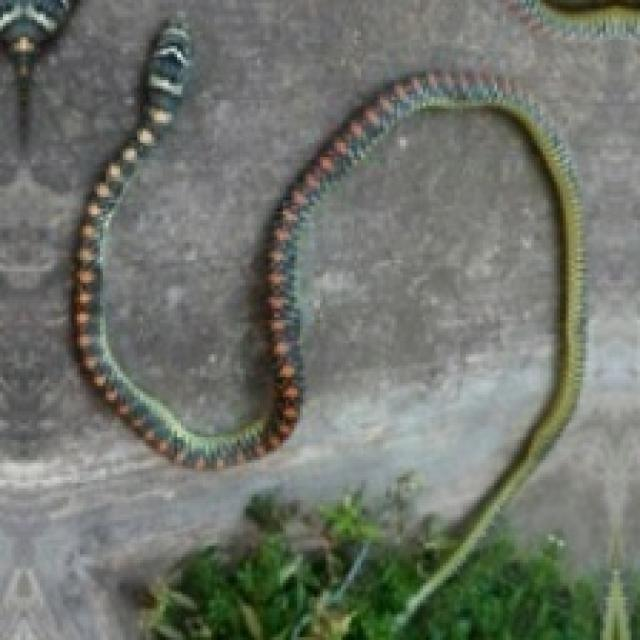paradise tree snake: (71, 17, 583, 626)
